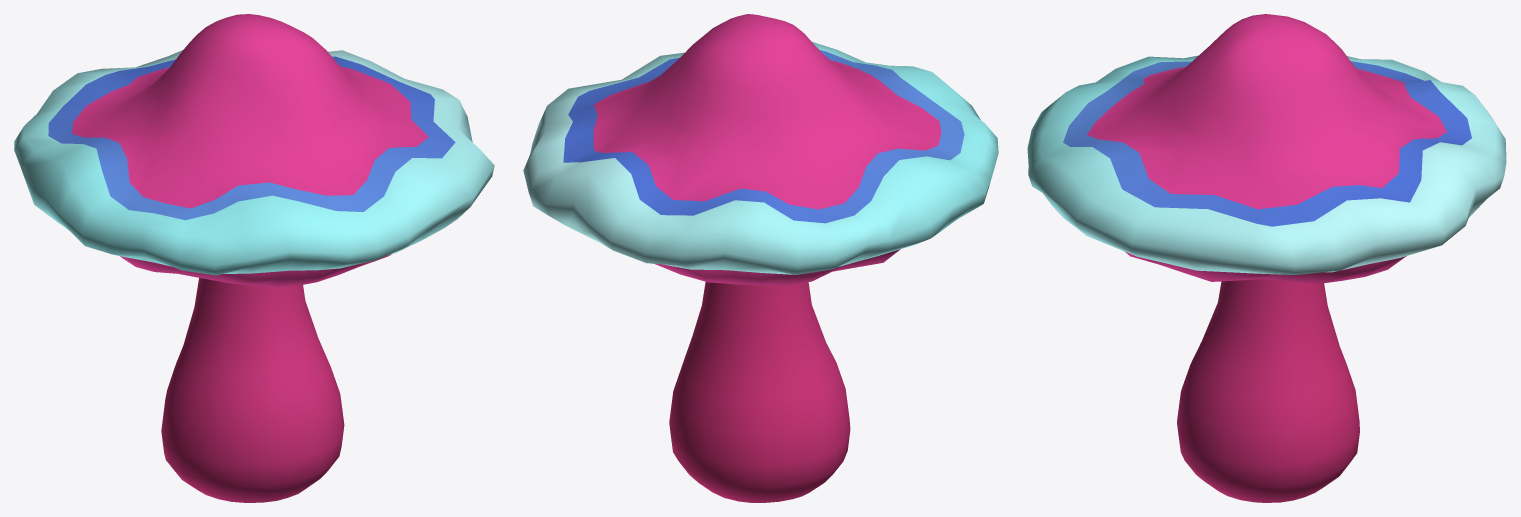
Rendered from mushroom 20.fbx.
The picture shows the model from 3 angles, left to right: view 1: azimuth 30°, elevation 25°; view 2: azimuth 150°, elevation 25°; view 3: azimuth 270°, elevation 25°; orthographic projection.
Parts seen in each view (by area): view 1: Mushroom_0001_0020; view 2: Mushroom_0001_0020; view 3: Mushroom_0001_0020.
Boxes of the visible parts, bbox=[...] form: Mushroom_0001_0020: bbox=[14, 14, 494, 502]; Mushroom_0001_0020: bbox=[523, 14, 998, 502]; Mushroom_0001_0020: bbox=[1027, 14, 1506, 502].
Bounding box in the file's own units: 25.45 × 27.37 × 25.53.
1 material, 1 textured.
